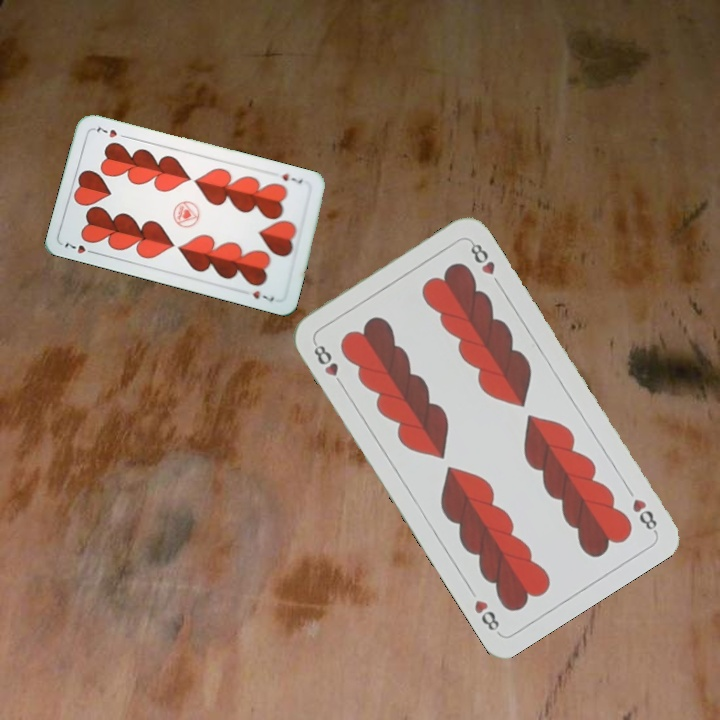H7: (60, 239, 99, 257), (278, 169, 305, 187)
H8: (309, 337, 347, 390), (628, 494, 660, 535)
